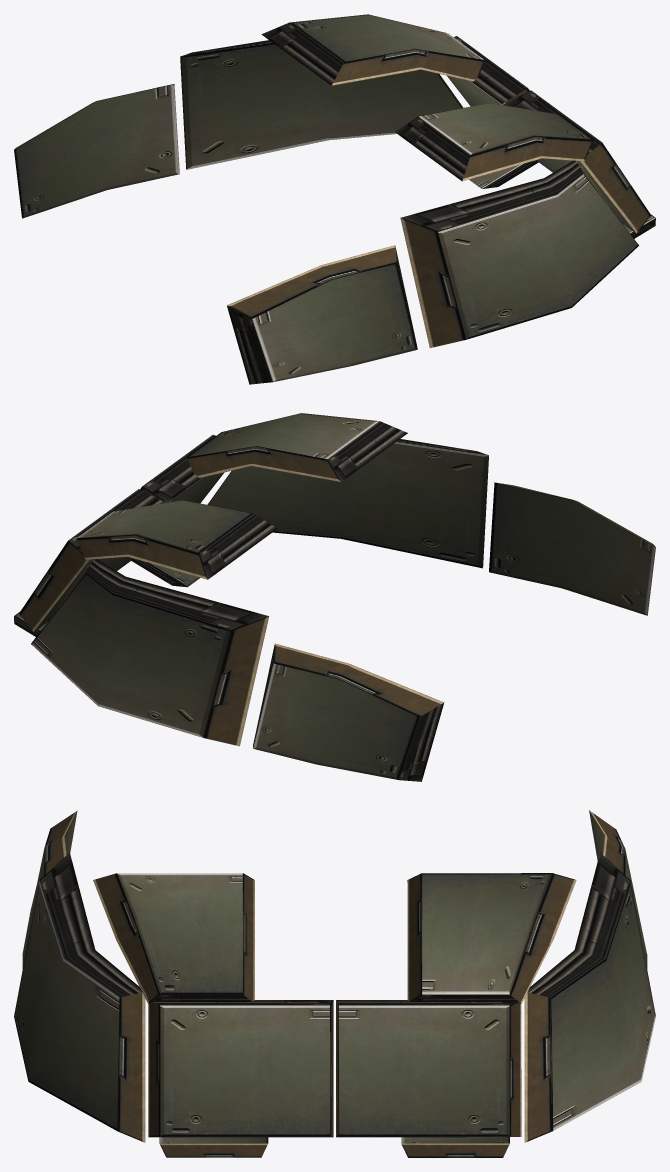
Rendered from heavy_unit_plating.obj.
The picture shows the model from 3 angles, top to bottom: view 1: azimuth 30°, elevation 25°; view 2: azimuth 150°, elevation 25°; view 3: azimuth 270°, elevation 25°; orthographic projection. The views are drawn at different scales.
Parts seen in each view (by area): view 1: polySurface56; view 2: polySurface56; view 3: polySurface56.
Part boxes in pixels (x1,y1,x2,y2): polySurface56: [14, 14, 655, 384]; polySurface56: [14, 413, 655, 781]; polySurface56: [14, 810, 655, 1157].
Size of the model in its own units: 40.79 by 13.12 by 40.37.
Materials: 1 (1 with a texture image).
